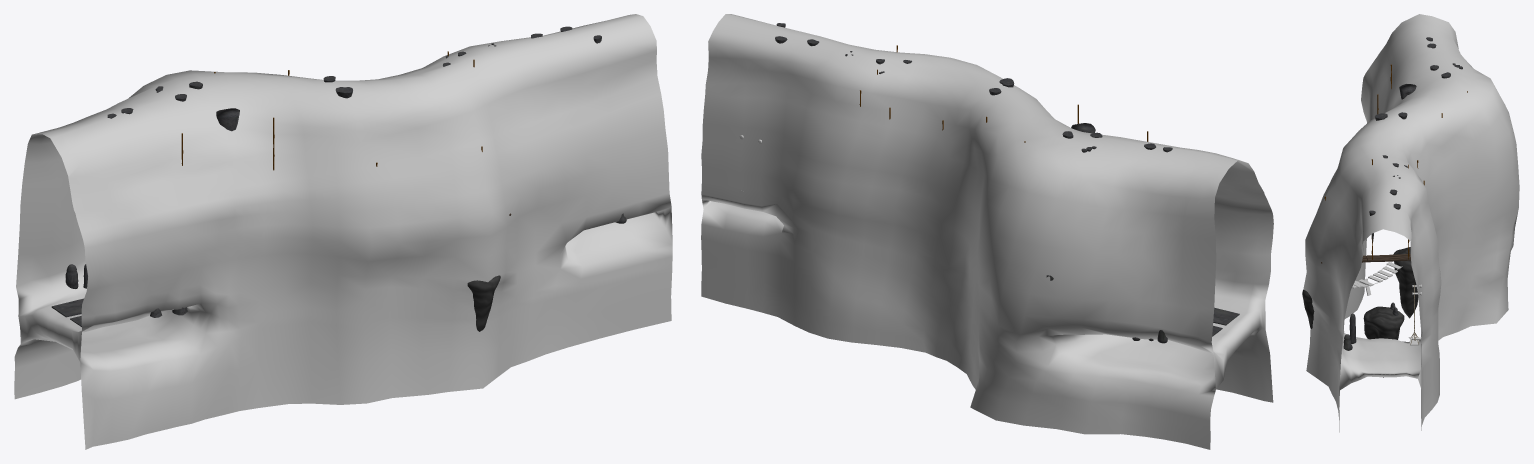
The model's file is 27.6. Pathway exp.fbx.
The picture shows the model from 3 angles, left to right: view 1: azimuth 30°, elevation 25°; view 2: azimuth 150°, elevation 25°; view 3: azimuth 270°, elevation 25°; orthographic projection. The views are drawn at different scales.
Visible parts, largest first — view 1: wall_and_ceiling_mesh, Platform_2; view 2: wall_and_ceiling_mesh; view 3: wall_and_ceiling_mesh, Platform_1, Platform_3, board_7, Platform_2.
Part boxes in pixels (<box>): wall_and_ceiling_mesh: <box>14,14,672,449</box>; Platform_2: <box>467,275,500,331</box>; wall_and_ceiling_mesh: <box>701,14,1273,449</box>; wall_and_ceiling_mesh: <box>1303,14,1519,432</box>; Platform_1: <box>1363,306,1404,377</box>; Platform_3: <box>1393,247,1418,318</box>; board_7: <box>1366,254,1410,262</box>; Platform_2: <box>1302,289,1314,328</box>.
Size of the model in its own units: 83.02 by 39.6 by 34.74.
